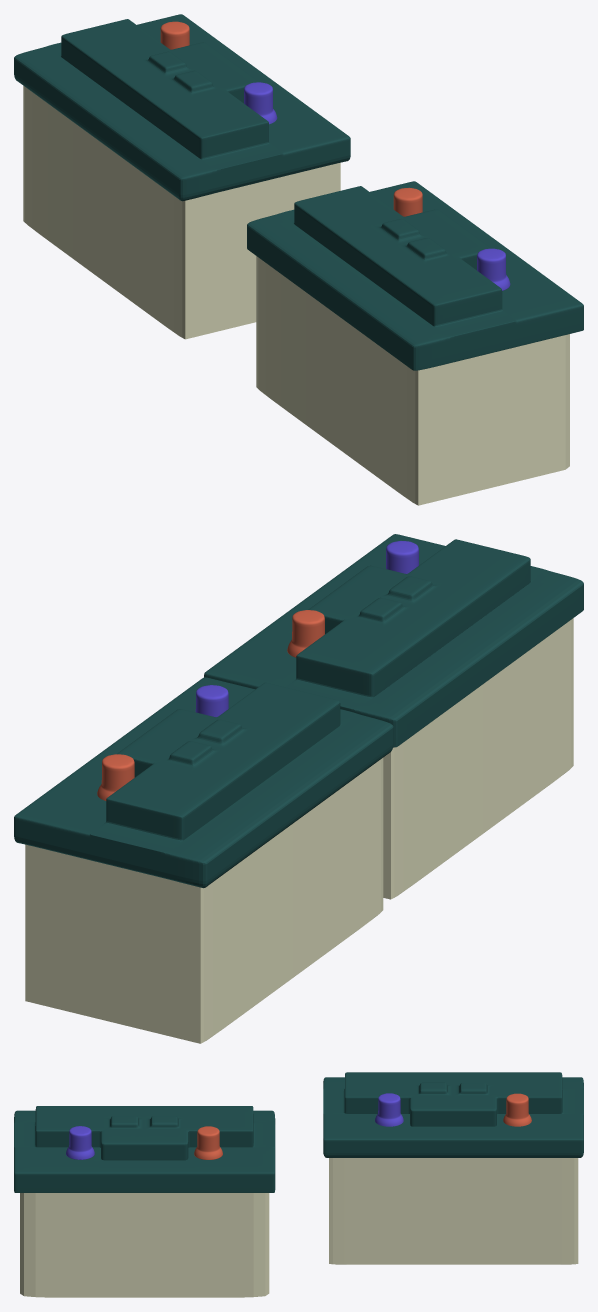
The model's file is Accccum.fbx.
3 renders of one model, top to bottom at view 1: azimuth 30°, elevation 25°; view 2: azimuth 150°, elevation 25°; view 3: azimuth 270°, elevation 25°, orthographic. The views are drawn at different scales.
Visible parts, largest first — view 1: Cube, Cube.003, Cube.002, Cylinder.002, Cylinder.003; view 2: Cube, Cube.002, Cube.003, Cylinder.003, Cylinder.002; view 3: Cube, Cube.003, Cube.002, Cylinder.003, Cylinder.002.
Boxes of the visible parts, x1,y1,x2,y2 form: Cube: [14, 14, 350, 339]; Cube.003: [256, 256, 569, 505]; Cube.002: [247, 181, 583, 370]; Cylinder.002: [477, 248, 510, 290]; Cylinder.003: [393, 187, 422, 216]; Cube: [14, 677, 393, 1043]; Cube.002: [204, 534, 583, 747]; Cube.003: [383, 618, 573, 899]; Cylinder.003: [287, 610, 324, 657]; Cylinder.002: [386, 541, 418, 573]; Cube: [323, 1072, 583, 1264]; Cube.003: [20, 1193, 269, 1297]; Cube.002: [14, 1106, 275, 1192]; Cylinder.003: [194, 1126, 222, 1159]; Cylinder.002: [66, 1126, 94, 1159].
Bounding box in the file's own units: 257 × 271 × 816.
